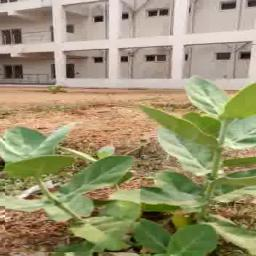Calotropis: (146, 76, 256, 254), (6, 122, 142, 253)
